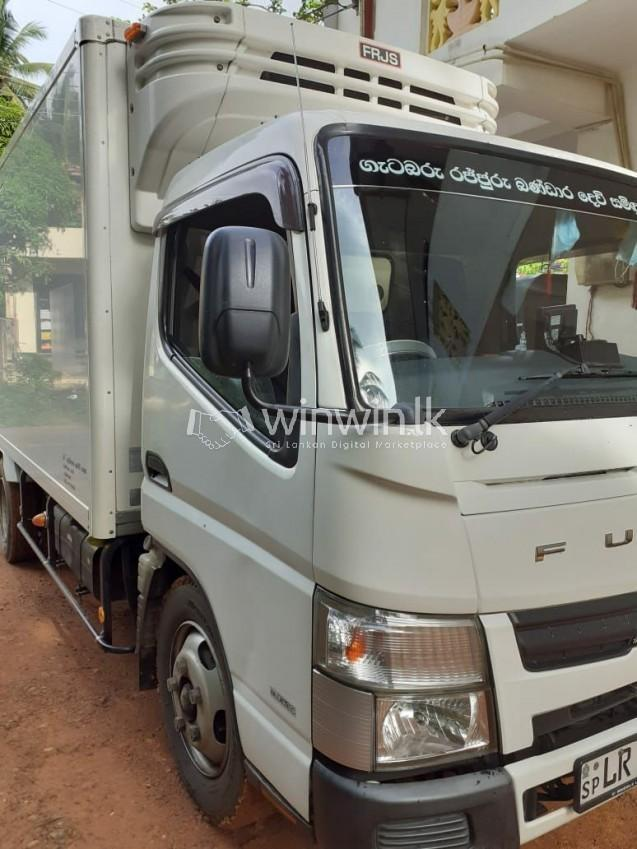truck: (1, 1, 637, 849)
